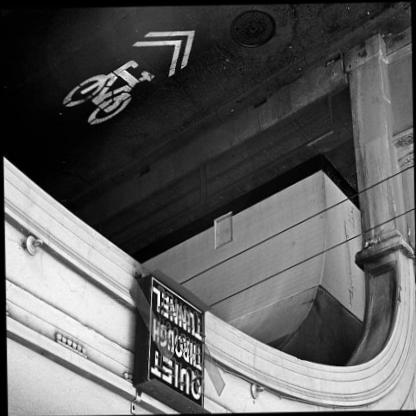manholes: (219, 0, 286, 58)
